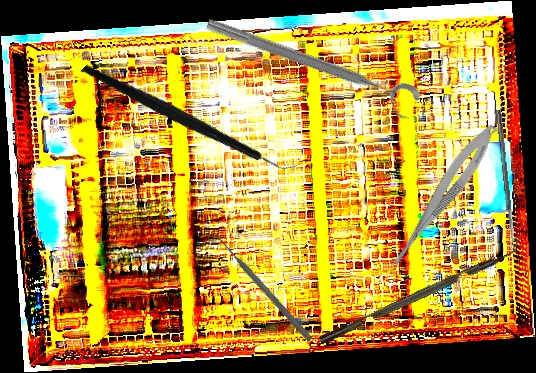Chopper: (78, 2, 303, 231), (314, 235, 527, 345)
Fixation Ring: (199, 12, 423, 124)
Micro Scissor: (379, 117, 504, 284)
Pusher: (212, 232, 315, 343)
Surgical Spoon: (495, 109, 516, 253)
